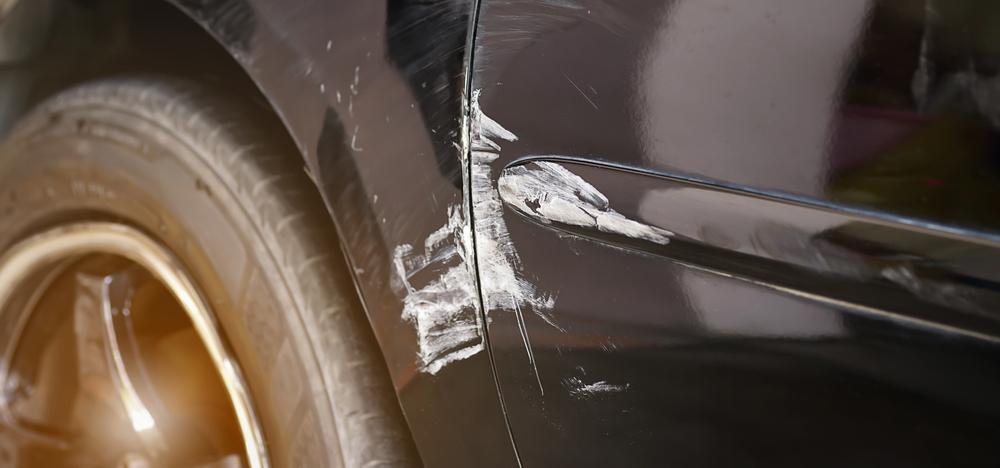scratch: (470, 86, 680, 408), (387, 86, 487, 380)
